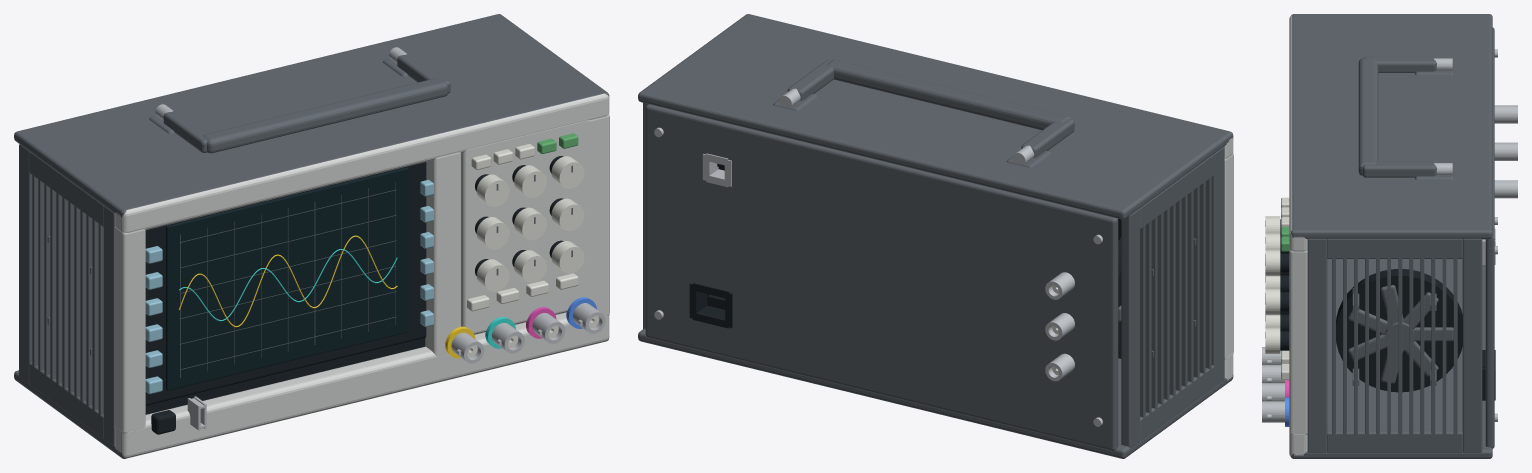
Rendered from A-NEW-20261026-OSCILLOSCOPE-001_LOD0_R5.fbx.
3 renders of one model, left to right at view 1: azimuth 30°, elevation 25°; view 2: azimuth 150°, elevation 25°; view 3: azimuth 270°, elevation 25°, orthographic. The views are drawn at different scales.
Visible parts, largest first — view 1: case roof, screen glass surface, front bottom rail, control face, front top rail, screen well floor, front vertical bezel, front vertical bezel.002, front vertical bezel.001, folded handle grip, side grille end frame.001, side grille end frame (+33 smaller); view 2: rear panel, case roof, folded handle grip, side grille end frame.001, base floor, side grille end frame, front vertical bezel, side grille edge frame, side grille edge frame.001, side ventilation rib.004, side ventilation rib.006, side ventilation rib.008 (+12 smaller); view 3: case roof, base floor, fan shroud backing.001, side grille end frame.002, side grille end frame.003, front vertical bezel.001, side grille edge frame.002, side grille edge frame.003, rear panel, folded handle grip, folded handle arm.001, front top rail (+33 smaller).
Boxes of the visible parts, x1,y1,x2,y2 form: case roof: (14,14,609,217); screen glass surface: (166,167,407,390); front bottom rail: (114,312,609,458); control face: (461,120,589,334); front top rail: (114,93,609,232); screen well floor: (145,162,426,405); front vertical bezel: (114,226,145,433); front vertical bezel.002: (425,152,460,356); front vertical bezel.001: (578,114,609,315); folded handle grip: (203,78,448,153); side grille end frame.001: (19,144,32,383); side grille end frame: (103,206,114,445); rear panel: (645,104,1118,450); case roof: (638,14,1233,219); folded handle grip: (827,59,1071,130); side grille end frame.001: (1121,208,1139,448); base floor: (638,328,1233,458); side grille end frame: (1211,147,1224,386); front vertical bezel: (1224,153,1233,359); side grille edge frame: (1140,365,1214,440); side grille edge frame.001: (1140,154,1214,229); side ventilation rib.004: (1181,193,1187,389); side ventilation rib.006: (1169,201,1175,397); side ventilation rib.008: (1157,210,1163,406); case roof: (1291,14,1492,239); base floor: (1291,259,1492,458); fan shroud backing.001: (1336,269,1462,392); side grille end frame.002: (1307,238,1327,452); side grille end frame.003: (1462,238,1482,452); front vertical bezel.001: (1289,249,1307,434); side grille edge frame.002: (1327,429,1462,452); side grille edge frame.003: (1327,238,1462,258); rear panel: (1485,27,1494,448); folded handle grip: (1358,58,1378,175); folded handle arm.001: (1362,161,1436,177); front top rail: (1289,15,1307,251).
Bounding box in the file's own units: 31.31 × 16.85 × 15.5.
